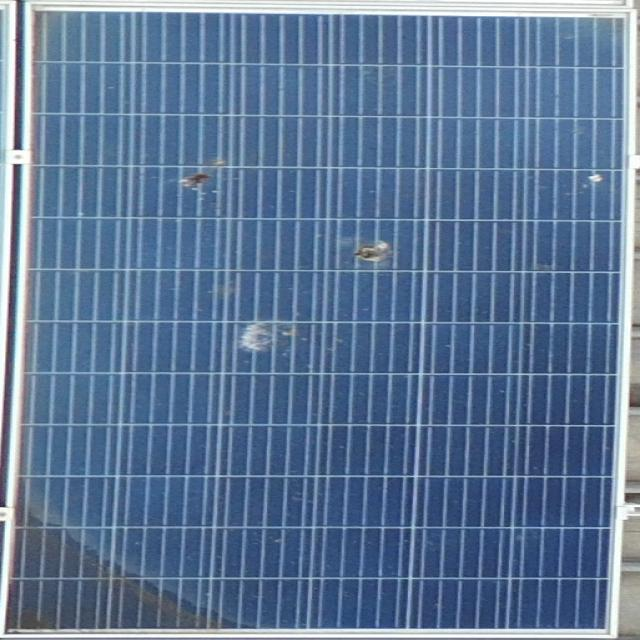Dust: (9, 494, 255, 640)
bird-droppings: (162, 154, 239, 200), (232, 312, 306, 354), (335, 235, 407, 264), (574, 162, 614, 192)
